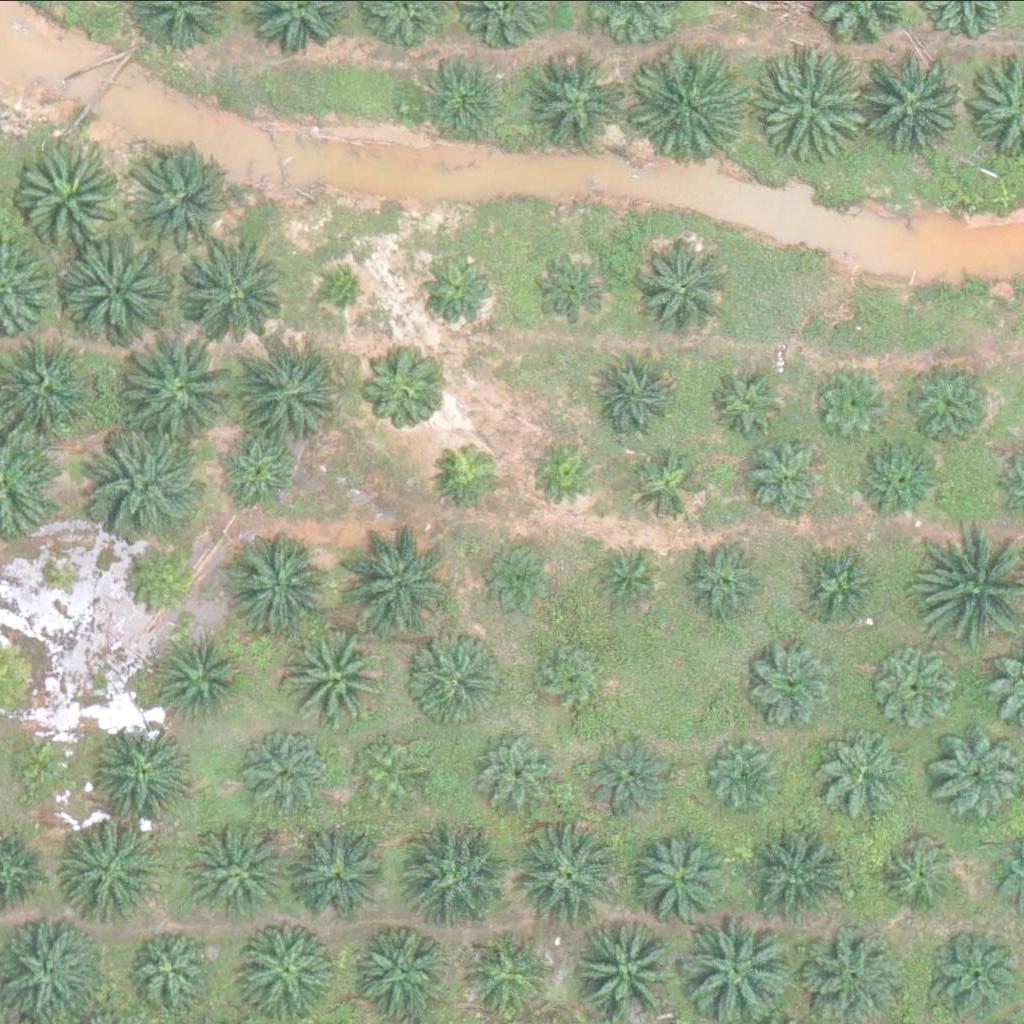Kelapa_Sawit: (628, 46, 742, 159), (752, 50, 865, 163), (749, 823, 862, 936), (62, 237, 175, 350), (179, 240, 292, 353), (91, 425, 204, 538), (861, 44, 975, 156), (571, 909, 685, 1021), (121, 334, 235, 446), (400, 823, 513, 935), (514, 822, 627, 934), (340, 521, 453, 633), (14, 142, 127, 254), (122, 145, 235, 257), (231, 329, 344, 441), (634, 238, 735, 338), (636, 827, 737, 927), (355, 919, 456, 1019), (231, 920, 332, 1020), (195, 818, 296, 918), (286, 820, 387, 920), (93, 727, 194, 827), (286, 628, 387, 728), (225, 531, 326, 631), (525, 51, 626, 151), (57, 821, 157, 921), (405, 627, 505, 727), (740, 433, 829, 521), (528, 241, 617, 329), (684, 535, 772, 623), (800, 547, 888, 635), (907, 363, 995, 451), (929, 931, 1017, 1019), (875, 830, 963, 918), (876, 641, 964, 729), (217, 426, 305, 514), (456, 925, 544, 1013), (589, 732, 677, 820), (471, 725, 559, 813), (354, 341, 442, 429), (593, 347, 681, 435), (855, 435, 943, 522), (747, 640, 835, 727), (820, 729, 908, 816), (131, 921, 219, 1008), (238, 728, 326, 815), (158, 634, 246, 721), (410, 244, 498, 331), (413, 57, 501, 144), (119, 542, 195, 617), (710, 737, 786, 812), (481, 539, 557, 614), (820, 364, 896, 439), (593, 541, 669, 616), (4, 730, 80, 805), (431, 434, 506, 509), (352, 733, 427, 808), (631, 449, 706, 524), (536, 635, 611, 710), (715, 361, 790, 436), (527, 434, 602, 509), (325, 262, 375, 312)
